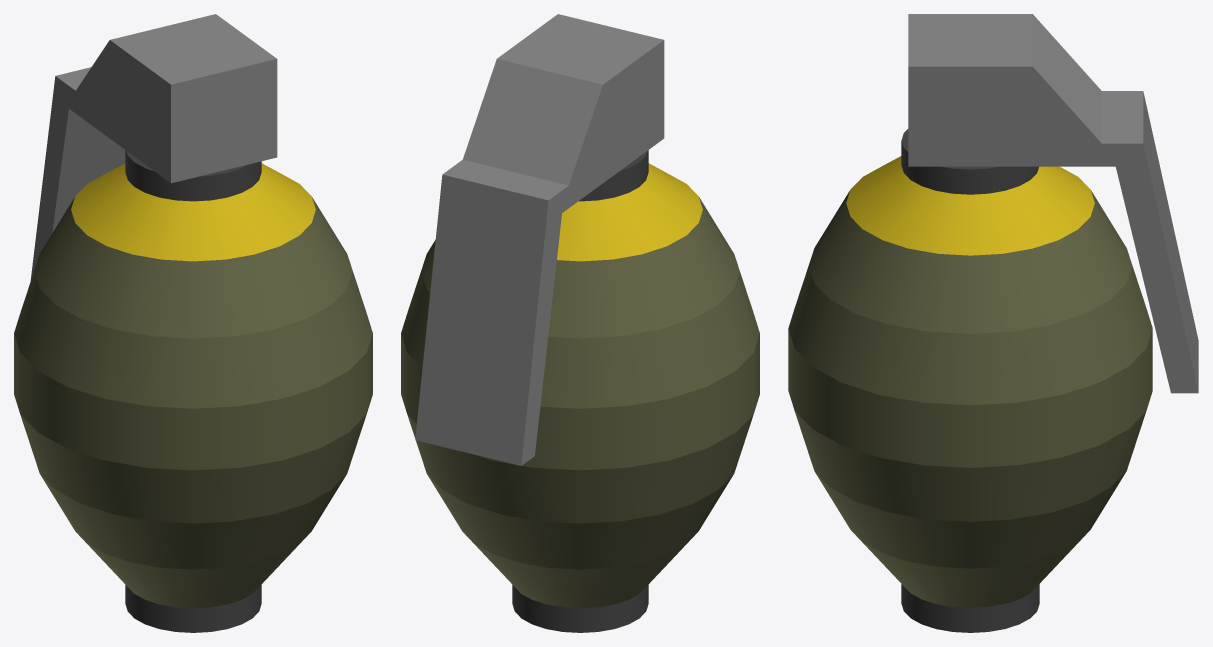
The model's file is grenade.obj.
3 views of the same model, side by side, from view 1: azimuth 30°, elevation 25°; view 2: azimuth 150°, elevation 25°; view 3: azimuth 270°, elevation 25° (orthographic).
Visible parts, largest first — view 1: Mesh1 Group2 Group1 Model, Mesh2 Group3 Group1 Model; view 2: Mesh1 Group2 Group1 Model, Mesh2 Group3 Group1 Model; view 3: Mesh1 Group2 Group1 Model, Mesh2 Group3 Group1 Model.
Boxes of the visible parts, left/top/right/bottom form: Mesh1 Group2 Group1 Model: left=14, top=150, right=372, bottom=632; Mesh2 Group3 Group1 Model: left=30, top=14, right=277, bottom=280; Mesh1 Group2 Group1 Model: left=401, top=150, right=759, bottom=632; Mesh2 Group3 Group1 Model: left=415, top=14, right=664, bottom=465; Mesh1 Group2 Group1 Model: left=788, top=129, right=1152, bottom=632; Mesh2 Group3 Group1 Model: left=908, top=14, right=1198, bottom=393.
Size of the model in its own units: 0.0158 by 0.027 by 0.0178.
